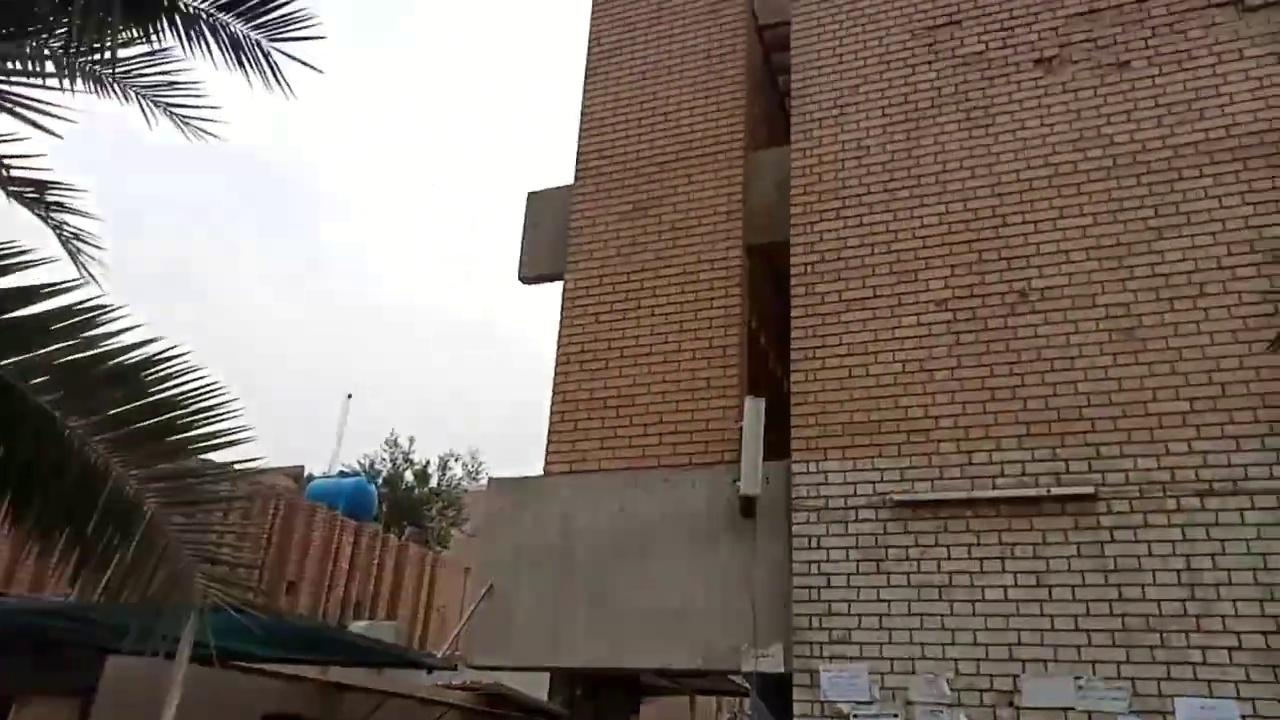tree: (0, 0, 327, 607), (0, 0, 326, 291), (337, 427, 489, 553)
